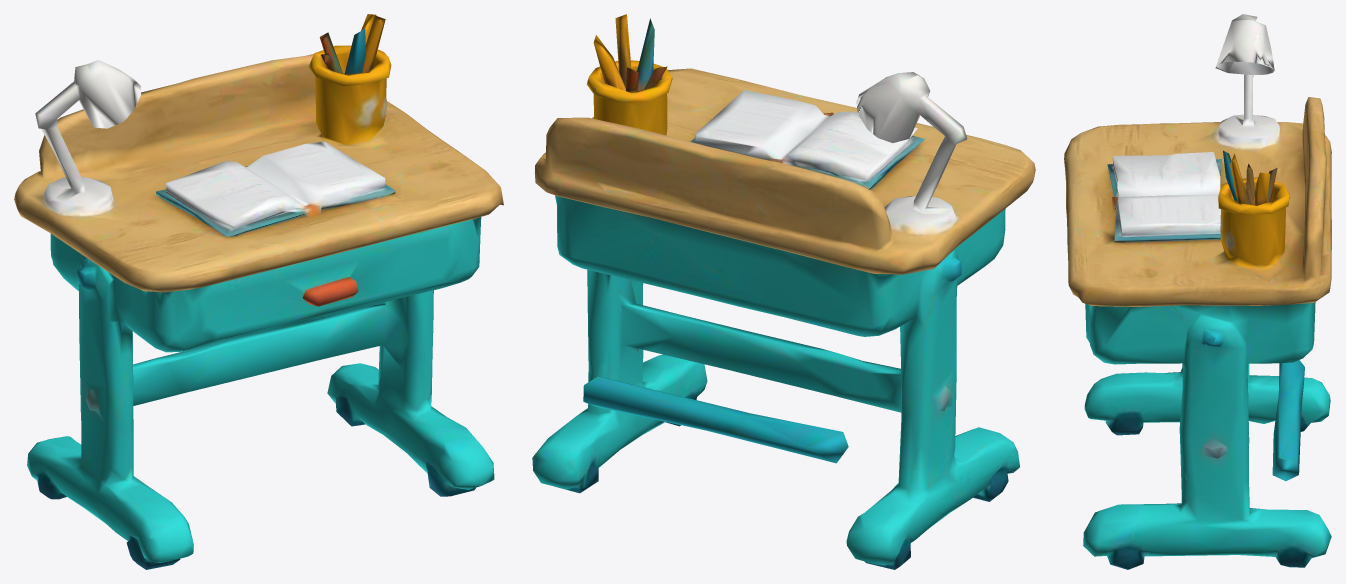
The model's file is desk.glb.
3 renders of one model, left to right at view 1: azimuth 30°, elevation 25°; view 2: azimuth 150°, elevation 25°; view 3: azimuth 270°, elevation 25°, orthographic. The views are drawn at different scales.
Parts seen in each view (by area): view 1: tripo_node_8825e0c1-6a41-4a95-a4b5-14416269e767; view 2: tripo_node_8825e0c1-6a41-4a95-a4b5-14416269e767; view 3: tripo_node_8825e0c1-6a41-4a95-a4b5-14416269e767.
Part boxes in pixels (x1=…): tripo_node_8825e0c1-6a41-4a95-a4b5-14416269e767: x1=14, y1=14, x2=503, y2=569; tripo_node_8825e0c1-6a41-4a95-a4b5-14416269e767: x1=532, y1=14, x2=1035, y2=569; tripo_node_8825e0c1-6a41-4a95-a4b5-14416269e767: x1=1064, y1=14, x2=1331, y2=569.
Size of the model in its own units: 0.8901 by 1 by 0.5848.
1 material, 1 textured.
